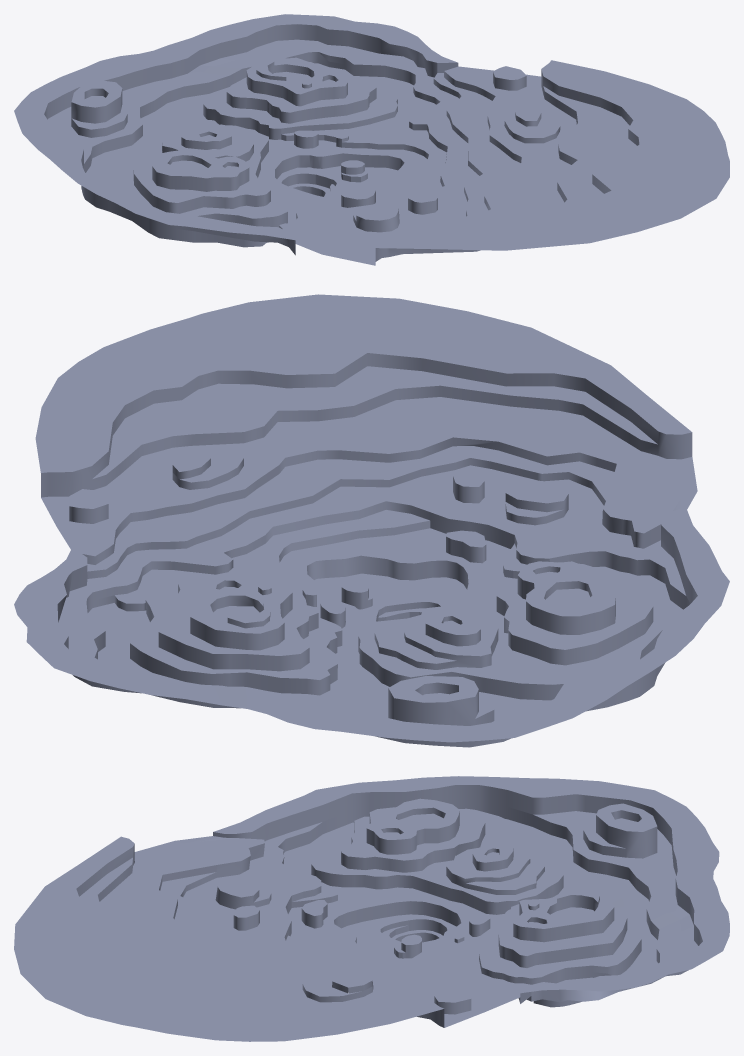
The model's file is enviroment base test4 (no sides or bottom).fbx.
The picture shows the model from 3 angles, top to bottom: view 1: azimuth 30°, elevation 25°; view 2: azimuth 150°, elevation 25°; view 3: azimuth 270°, elevation 25°; orthographic projection. The views are drawn at different scales.
Visible parts, largest first — view 1: pCylinder1; view 2: pCylinder1; view 3: pCylinder1.
Part boxes in pixels (x1,y1,x2,y2): pCylinder1: (14,14,729,265); pCylinder1: (14,294,729,747); pCylinder1: (14,776,729,1041).
Size of the model in its own units: 204 by 28.38 by 220.
